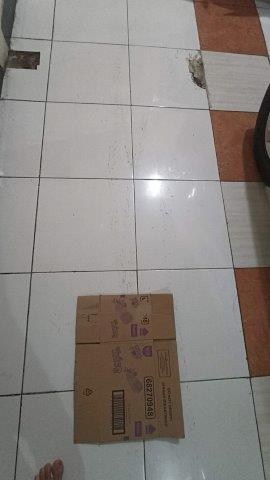kardus: (75, 296, 184, 443)
